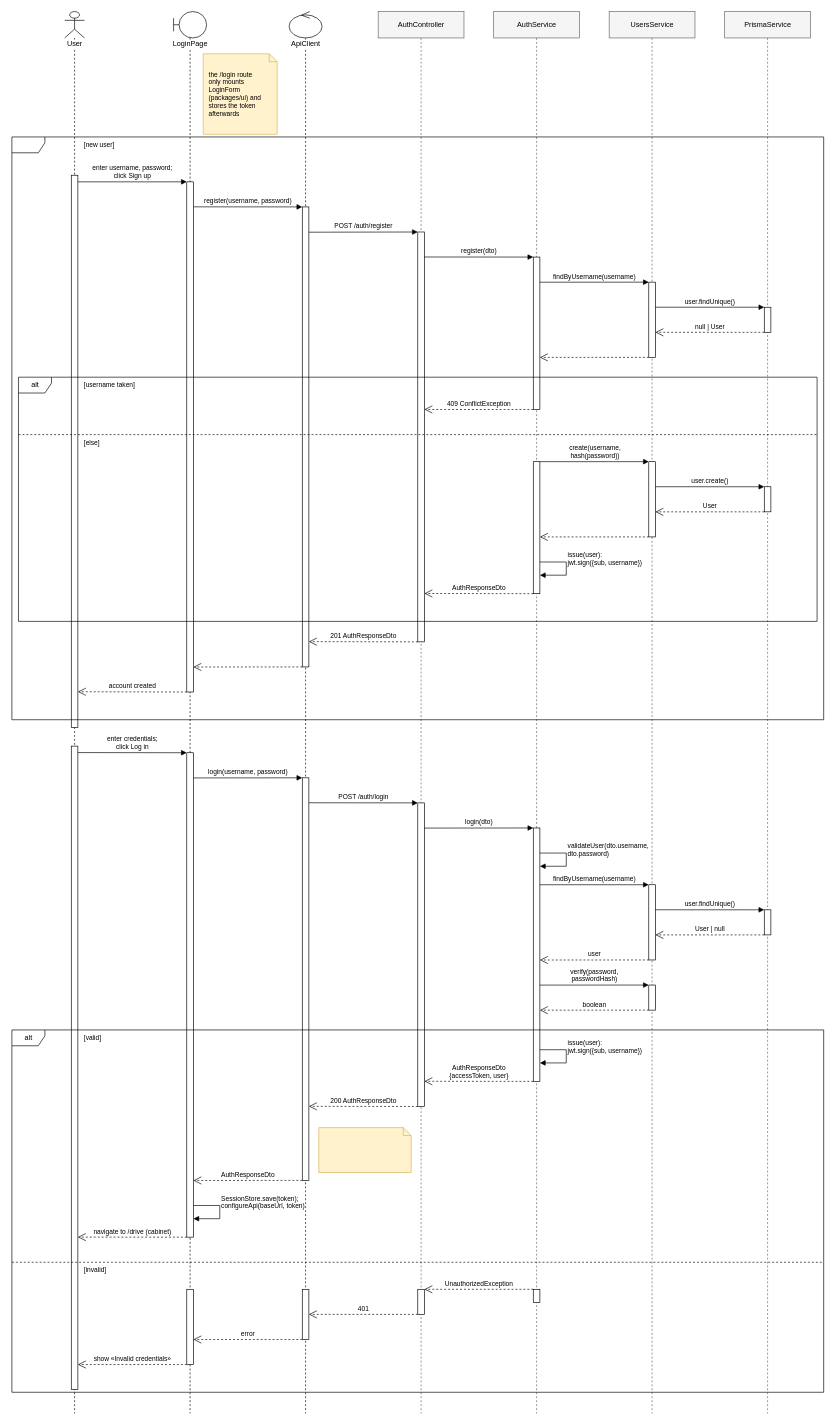
This 836x1425 diagram has some shape labels left out. Here are the shapes that lost their labels. From the top down, the box of each, then its label:
(11, 136, 824, 720): opt
(318, 1127, 411, 1172): JWT HS256, 24 h, sent as Authorization: Bearer
